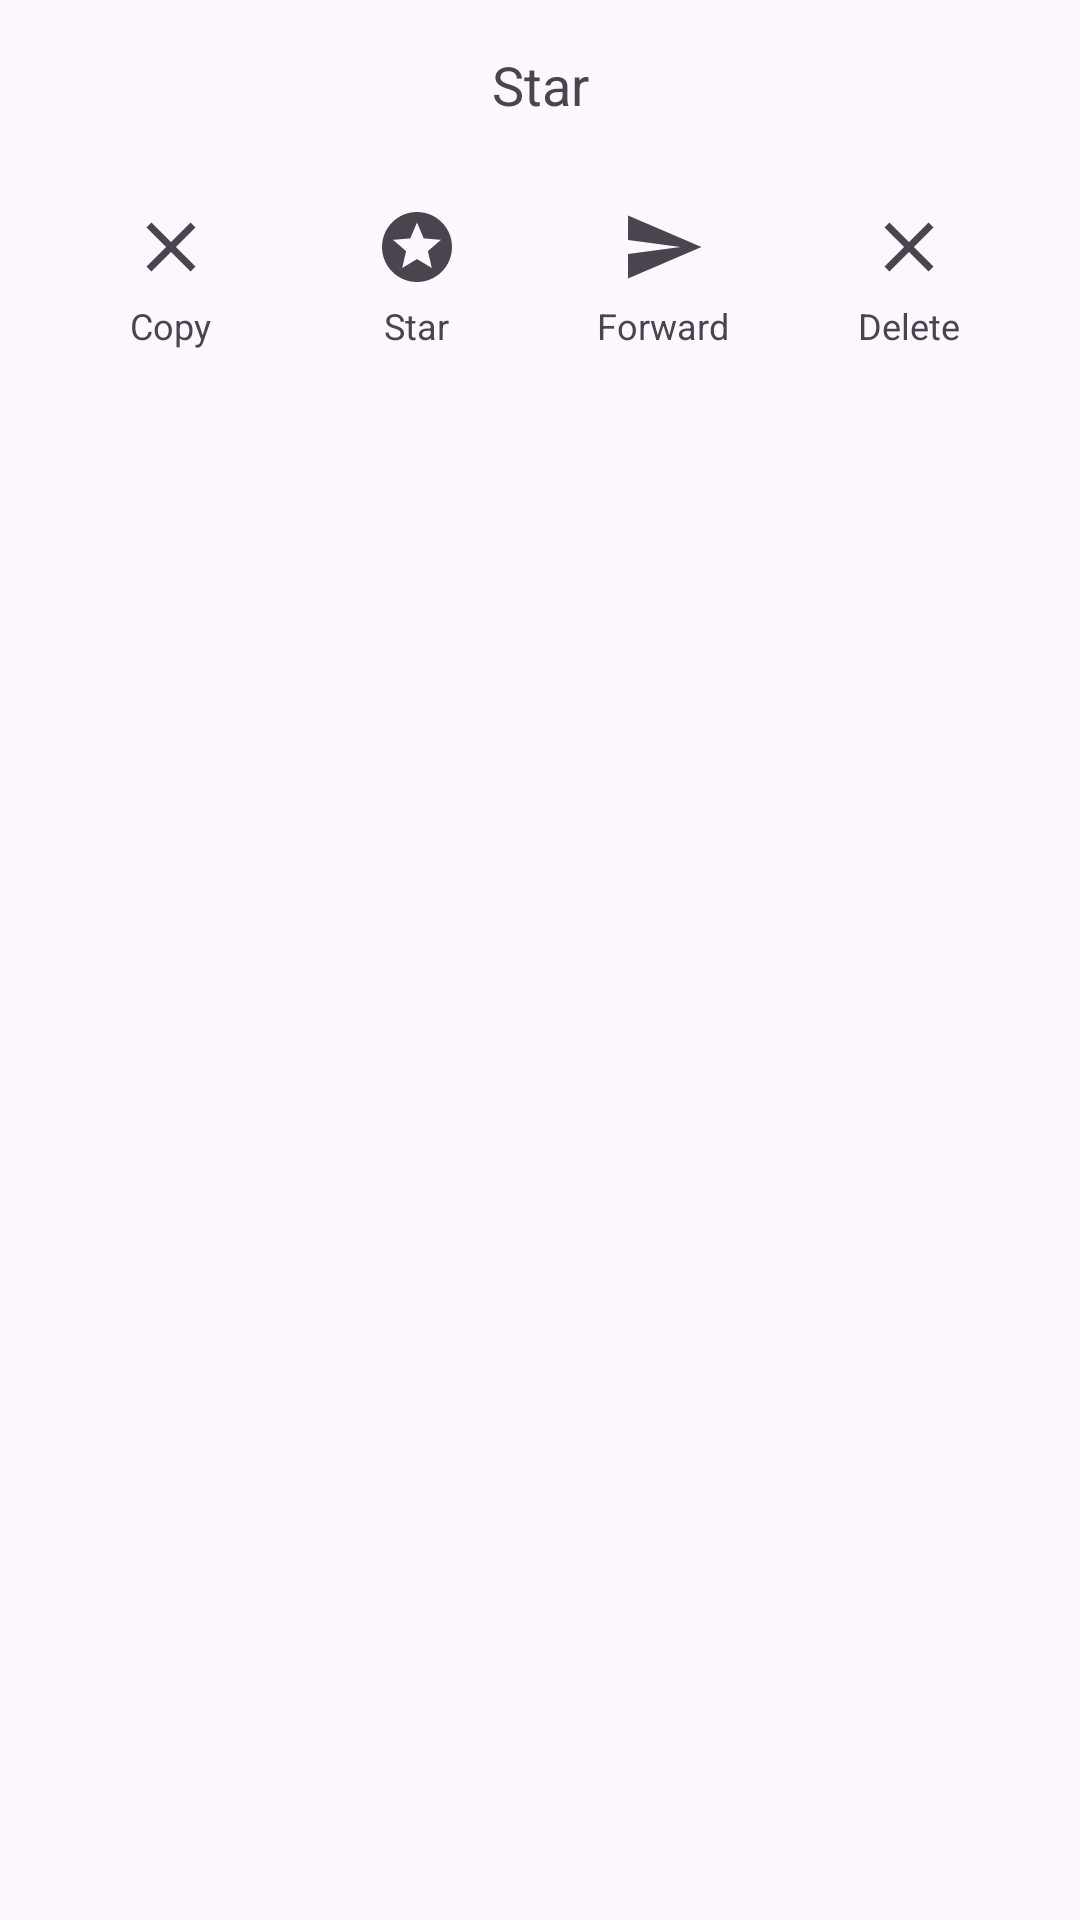

Named icons in this screenshot (1080×1920) and their bounding boxes, {"x1": x1, "y1": y1, "x2": x2, "y2": y2}:
clear: {"x1": 146, "y1": 222, "x2": 196, "y2": 272}, {"x1": 884, "y1": 222, "x2": 934, "y2": 272}
send: {"x1": 628, "y1": 215, "x2": 701, "y2": 279}
